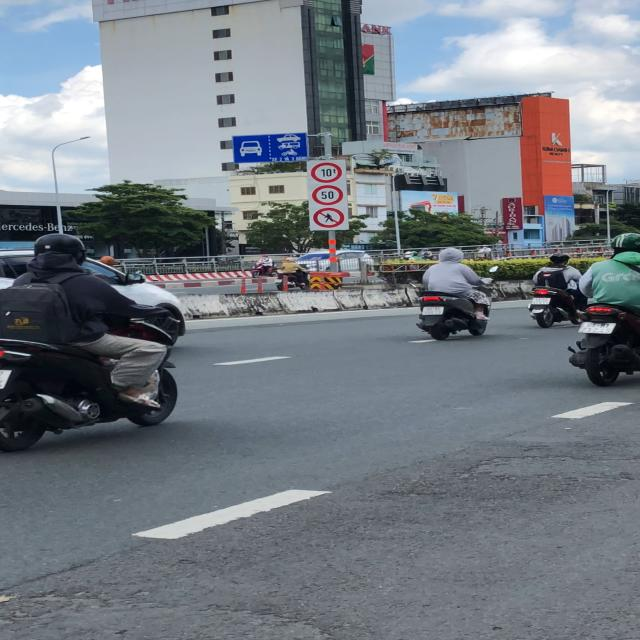Bien bao cam nguoi di bo: (312, 207, 350, 229)
Bien bao toc do toi da cho phep: (311, 183, 348, 207)
